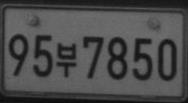0: (156, 37, 178, 81)
5: (131, 37, 153, 81), (32, 34, 54, 77)
7: (82, 35, 104, 79)
8: (106, 35, 128, 80)
9: (7, 33, 29, 76)
부: (56, 41, 76, 78)
